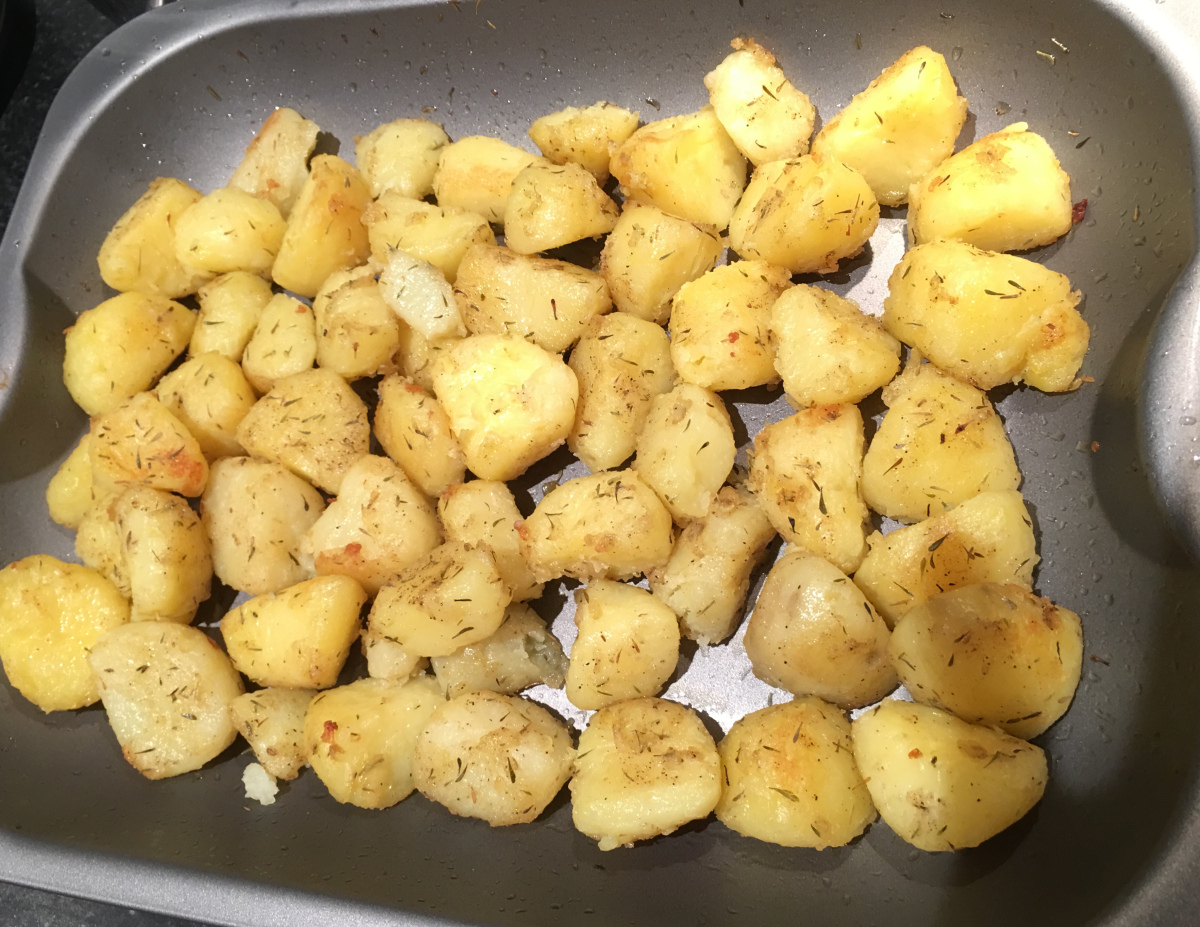boiled potatoes: (880, 581, 1087, 713), (883, 249, 1084, 376), (857, 699, 1032, 836), (79, 608, 230, 758), (2, 556, 135, 719), (861, 362, 1010, 504), (711, 712, 872, 838), (761, 547, 892, 697), (570, 712, 722, 841), (816, 53, 957, 190), (910, 141, 1074, 254), (431, 339, 578, 464), (427, 693, 566, 824), (871, 504, 1045, 600), (758, 407, 869, 556), (522, 478, 664, 592), (99, 479, 212, 620), (307, 673, 422, 808), (316, 456, 429, 588), (38, 422, 184, 523), (233, 576, 359, 692), (737, 163, 877, 266), (246, 373, 374, 485), (214, 453, 307, 601), (615, 118, 747, 222), (566, 589, 673, 712), (468, 250, 598, 349), (670, 268, 780, 384), (786, 289, 888, 410), (78, 292, 187, 403), (661, 508, 760, 628), (374, 557, 498, 649), (577, 319, 658, 454), (598, 205, 701, 307), (106, 192, 213, 288), (651, 380, 723, 515), (710, 67, 811, 158), (293, 154, 363, 272), (514, 106, 642, 170), (370, 376, 441, 488), (442, 147, 550, 220), (370, 200, 486, 267), (506, 168, 612, 240), (184, 186, 270, 273), (236, 110, 316, 194), (161, 371, 253, 443), (190, 273, 261, 359), (366, 131, 446, 196), (327, 282, 385, 371), (247, 307, 309, 371)
